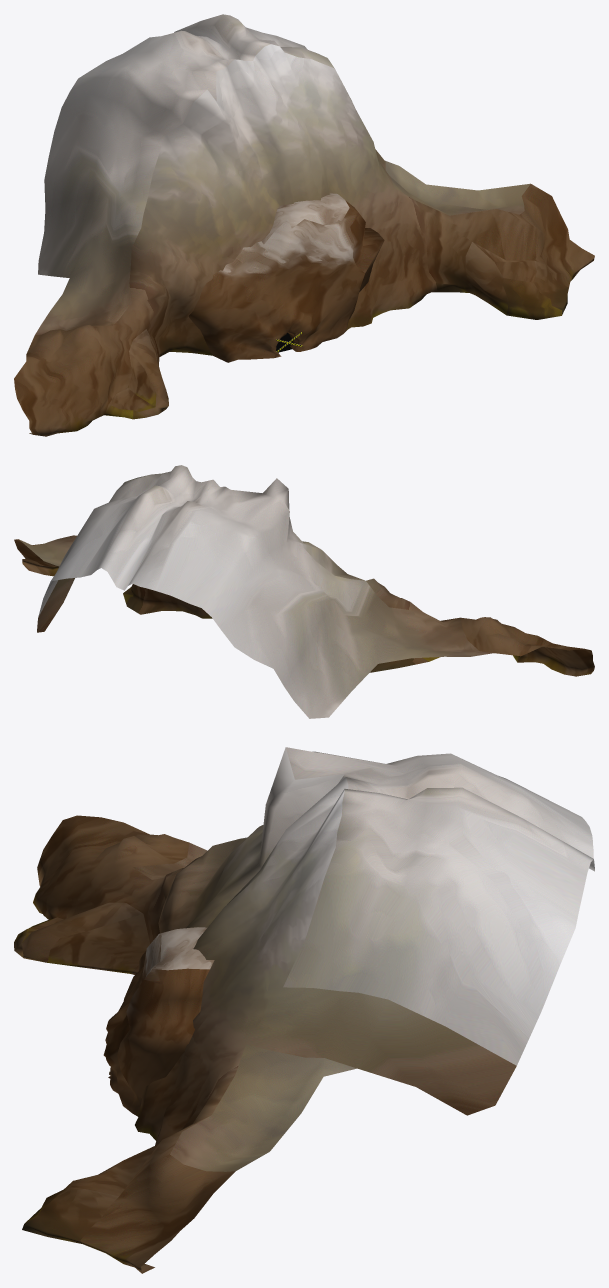
Rendered from mountain_2.fbx.
3 renders of one model, top to bottom at view 1: azimuth 30°, elevation 25°; view 2: azimuth 150°, elevation 25°; view 3: azimuth 270°, elevation 25°, orthographic. The views are drawn at different scales.
Parts seen in each view (by area): view 1: mountain_mesh, cave_entrance; view 2: mountain_mesh; view 3: mountain_mesh, cave_entrance.
Boxes of the visible parts, bbox=[...] form: mountain_mesh: bbox=[14, 14, 594, 436]; cave_entrance: bbox=[189, 193, 384, 362]; mountain_mesh: bbox=[14, 465, 594, 718]; mountain_mesh: bbox=[14, 747, 594, 1273]; cave_entrance: bbox=[103, 927, 214, 1116].
Bounding box in the file's own units: 3042 × 1126 × 1815.
4 materials, 3 textured.
